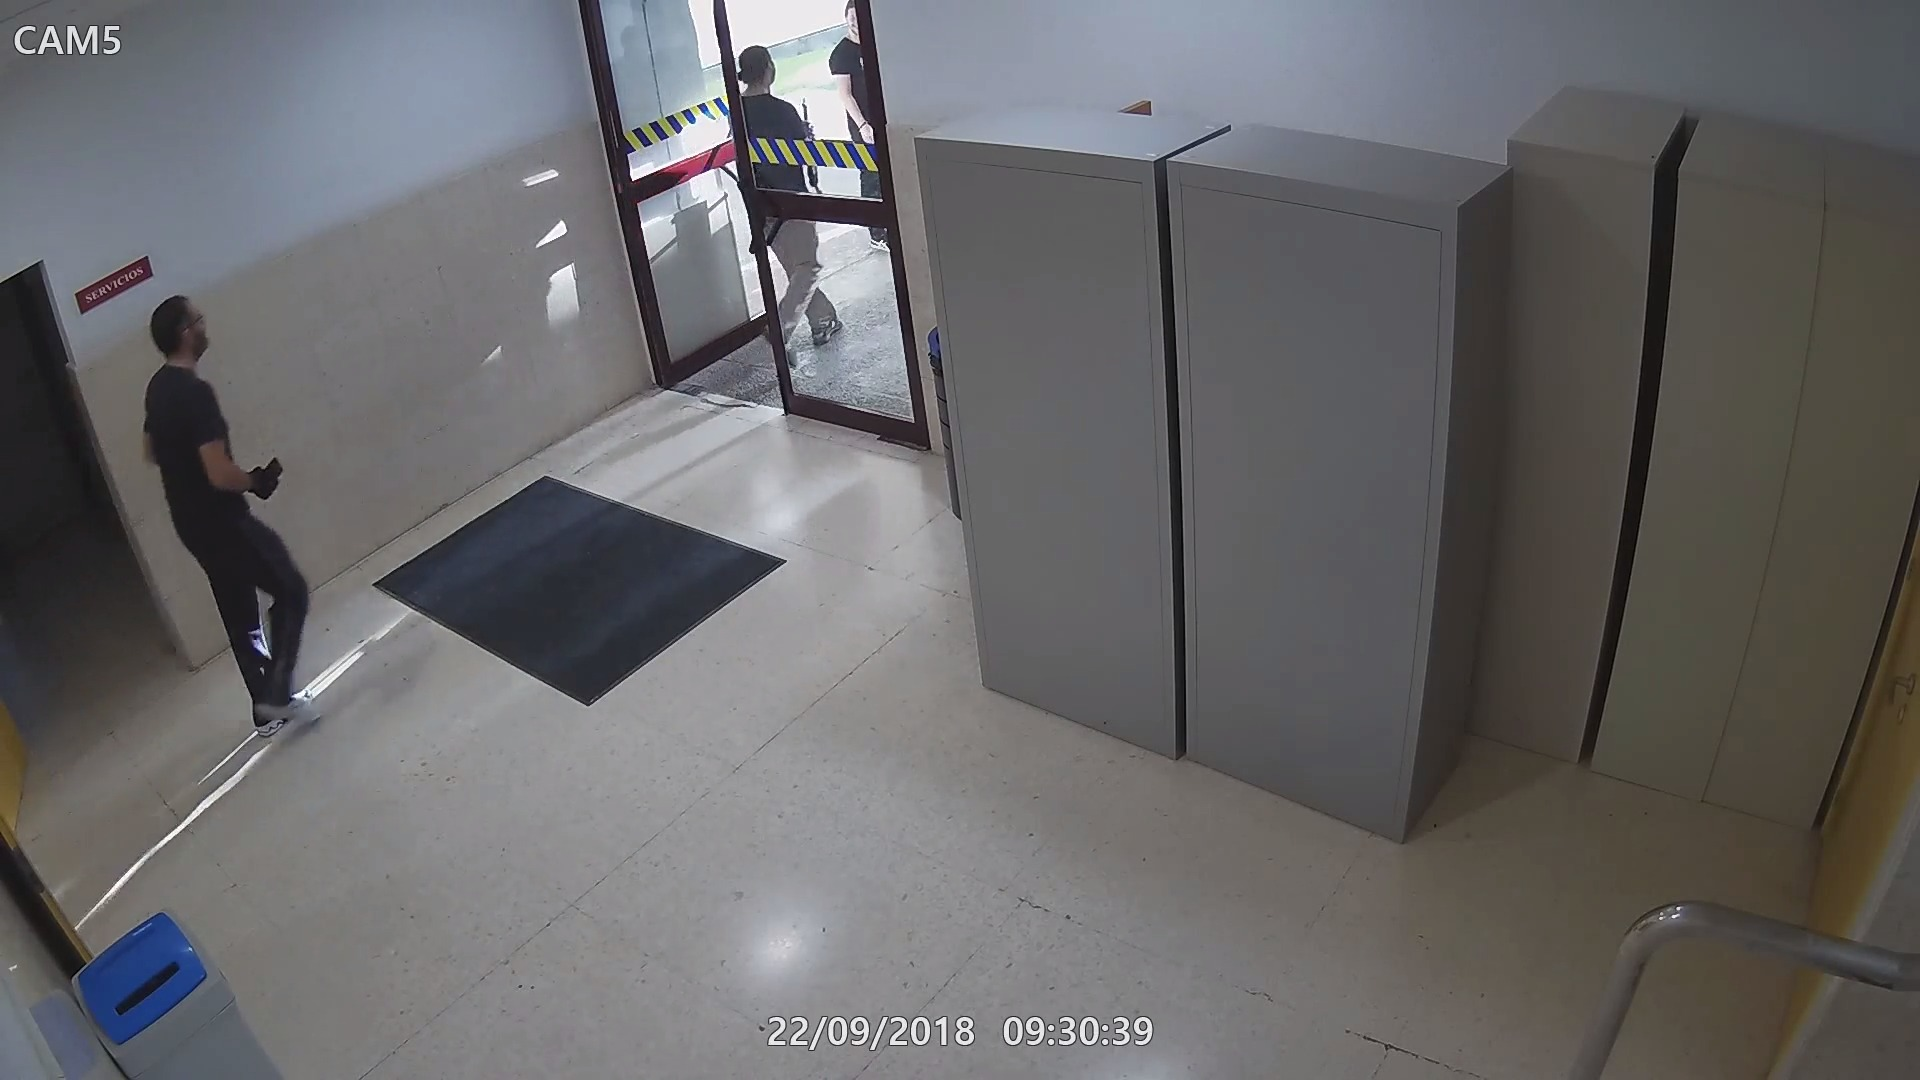Short_rifle: (796, 96, 825, 195)
